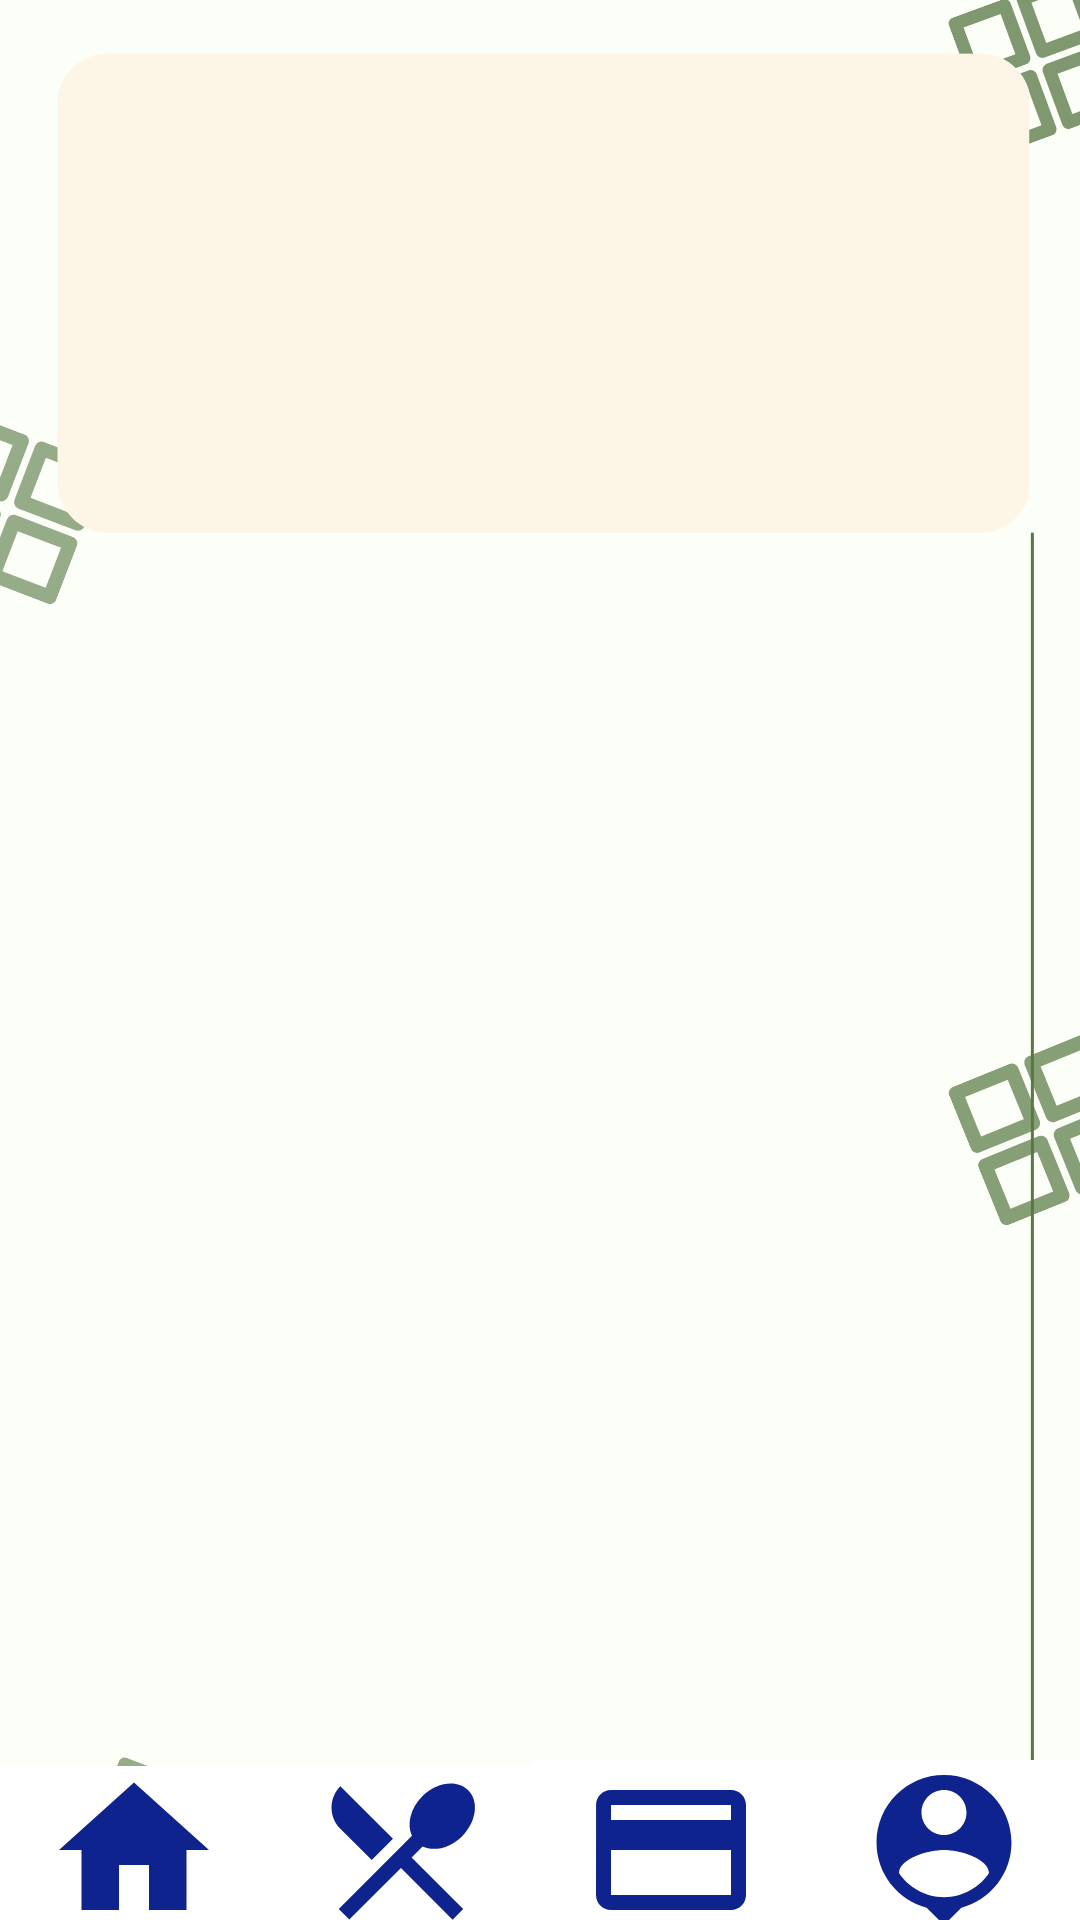

Point at icon controls on the screen. Image size 1080x1920, points as [x,y].
home: [134,1846]
restaurant menu: [403,1851]
